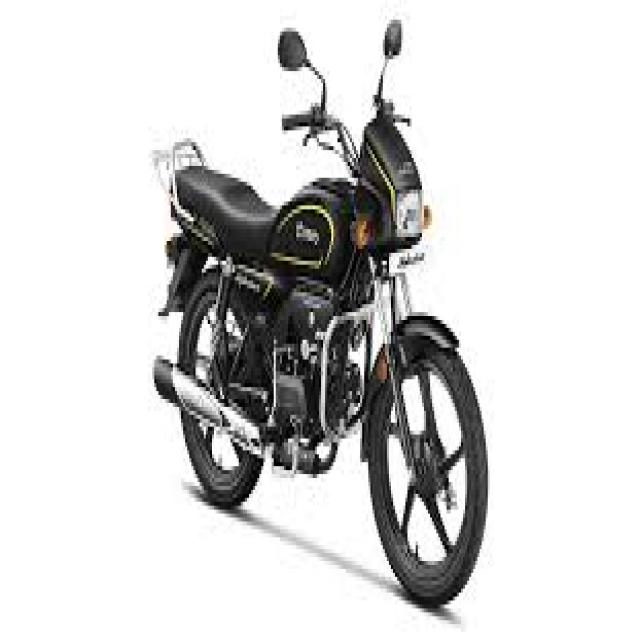Bike: (150, 18, 489, 610)
